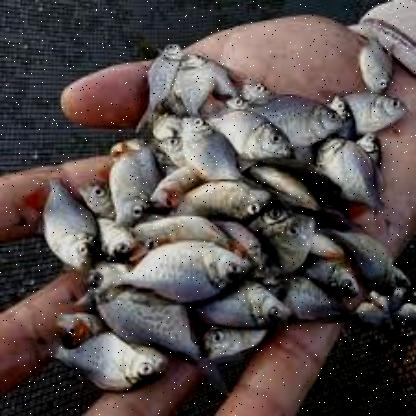ikan-pacu: (102, 286, 206, 366), (53, 332, 168, 394), (124, 242, 244, 300), (32, 175, 100, 267), (217, 105, 292, 165), (107, 139, 158, 220), (178, 118, 240, 176)
